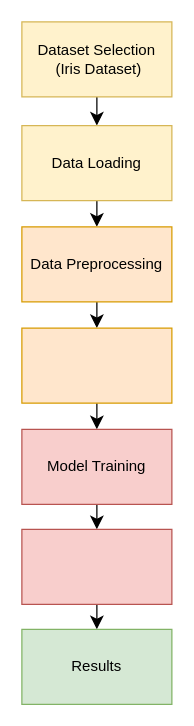
Image size: 194x726. Some labels were removed from this diagram. The centre of each missing label's shape, as x and y in pixels:
"Model Evaluation" belongs at point (96, 566).
"Train / Test Split" belongs at point (96, 365).
